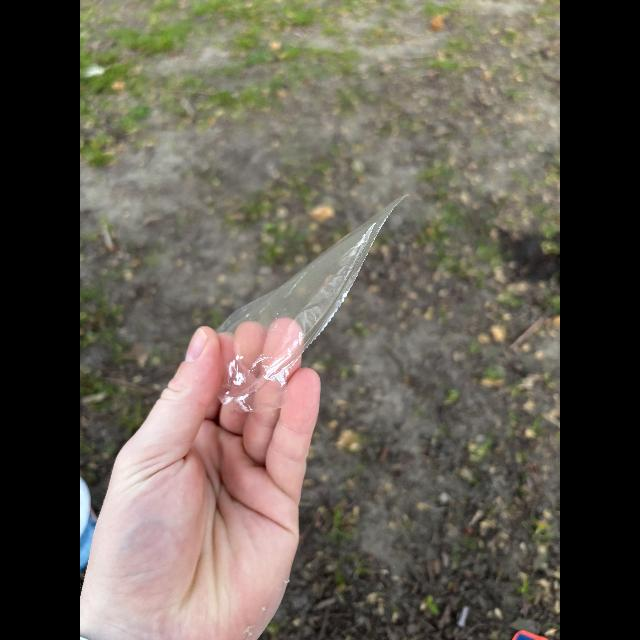Plastic: (208, 196, 416, 414)
